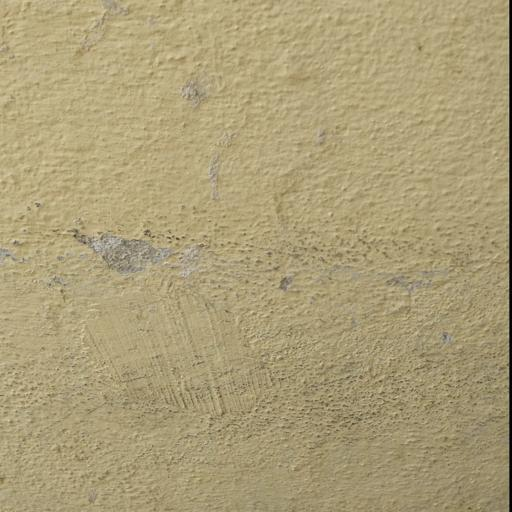peeling: (68, 207, 458, 300)
